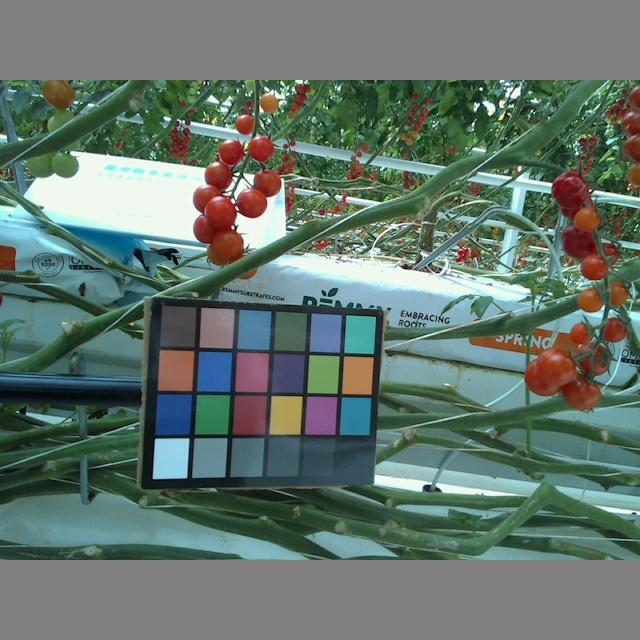green: (51, 153, 83, 177)
pink: (524, 355, 566, 398), (535, 346, 579, 386), (559, 372, 600, 411), (575, 340, 613, 375), (42, 81, 77, 111), (579, 250, 608, 281), (575, 286, 603, 315), (600, 278, 628, 306), (601, 317, 626, 345), (570, 322, 594, 347), (576, 207, 599, 233), (259, 93, 277, 115)
red: (559, 221, 601, 261), (550, 170, 590, 210), (208, 228, 242, 263), (205, 193, 236, 227), (203, 161, 234, 193), (194, 214, 228, 243), (252, 167, 284, 197), (192, 188, 225, 216), (236, 187, 267, 216), (218, 136, 247, 165), (246, 132, 273, 161), (235, 111, 255, 136)
